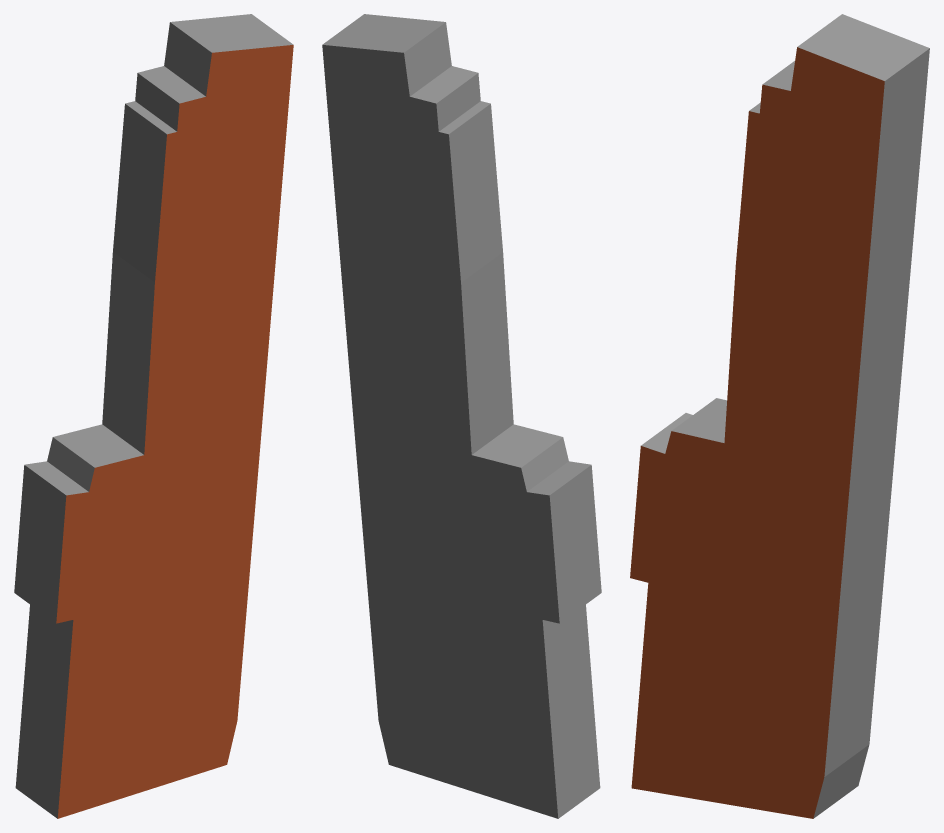
Rendered from construction_6279_assumed_A_Casa_h6m.obj.
3 views of the same model, side by side, from view 1: azimuth 30°, elevation 25°; view 2: azimuth 150°, elevation 25°; view 3: azimuth 330°, elevation 25° (orthographic). The views are drawn at different scales.
Visible parts, largest first — view 1: construction_6279_assumed_A_Casa; view 2: construction_6279_assumed_A_Casa; view 3: construction_6279_assumed_A_Casa.
Part boxes in pixels (left/top/right/bottom): construction_6279_assumed_A_Casa: left=14, top=14, right=293, bottom=818; construction_6279_assumed_A_Casa: left=322, top=14, right=601, bottom=818; construction_6279_assumed_A_Casa: left=630, top=14, right=929, bottom=818.
Size of the model in its own units: 19.55 by 57.32 by 6.
